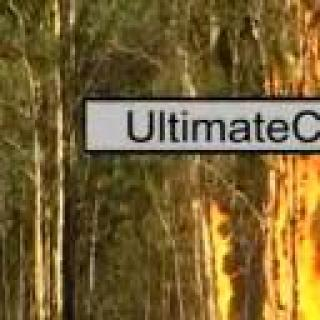fire: (190, 206, 320, 320), (253, 49, 320, 210)
